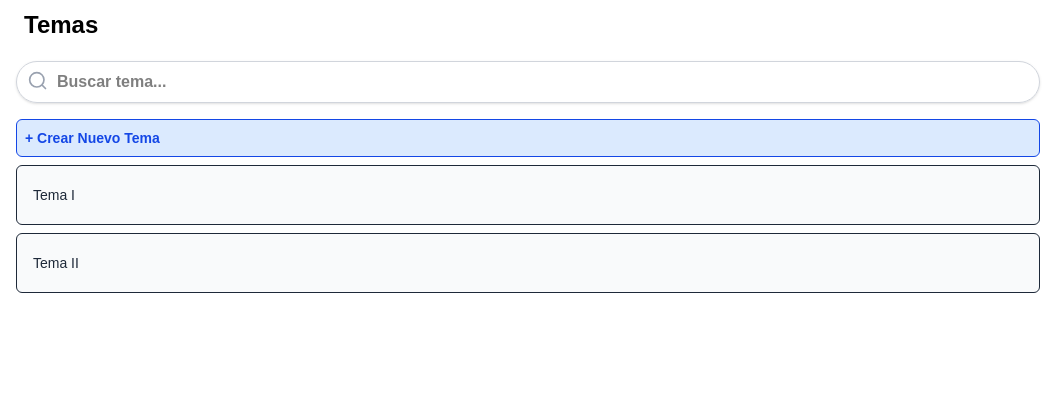
Test: SubjectPage › muestra error si falla la creación del tema
Click the button "+ Crear Nuevo Tema": (92, 138) [16,119,1040,157]
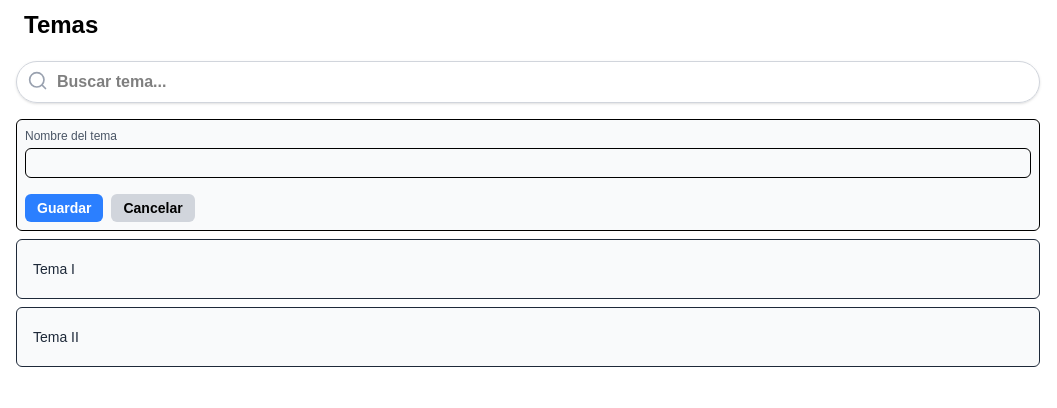
In the field labelled "Nombre del tema": (528, 163) [25,148,1031,178], type "Tema III"
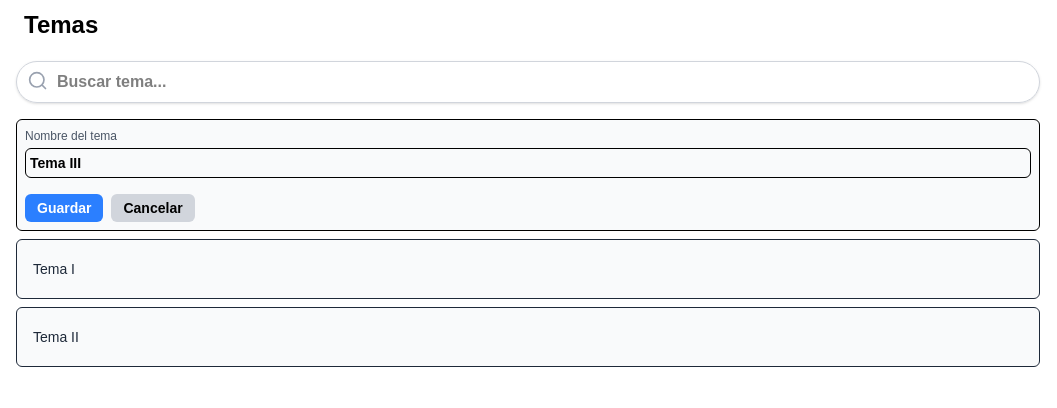
Click the button "Guardar": (64, 208) [25,194,104,222]
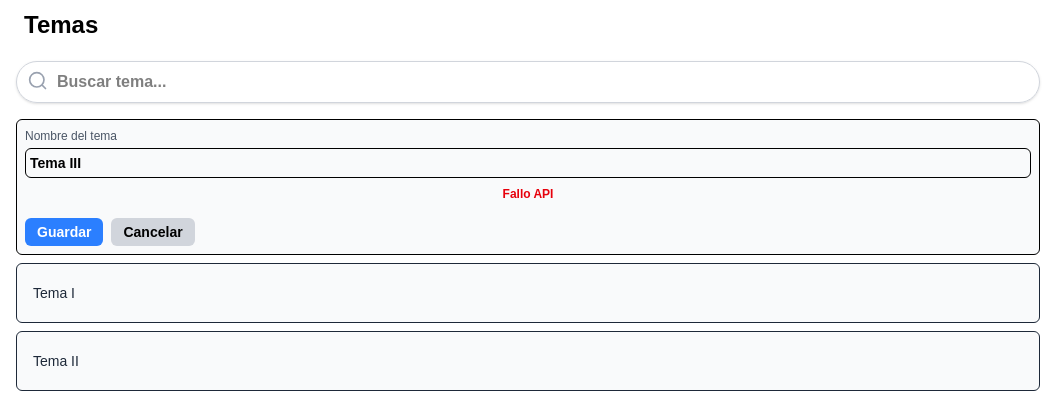
Expected: the text "Fallo API" is shown, [502,187,553,201]
